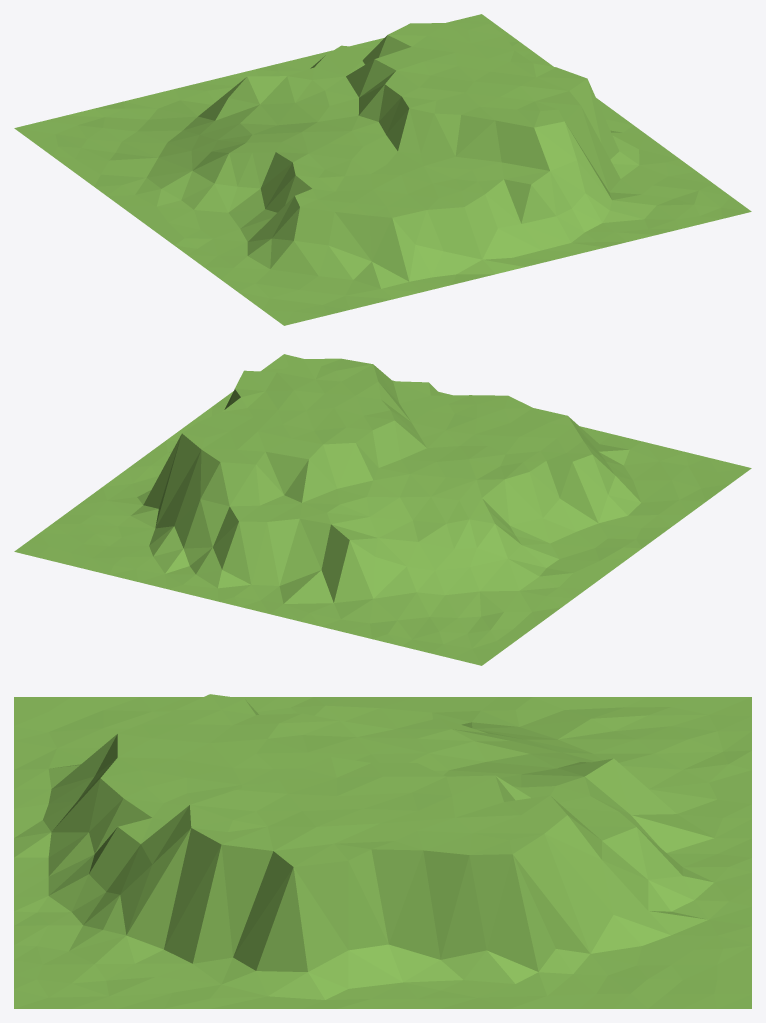
Rendered from MT_Terrain_M_d_21_LOD.fbx.
3 renders of one model, top to bottom at view 1: azimuth 30°, elevation 25°; view 2: azimuth 150°, elevation 25°; view 3: azimuth 270°, elevation 25°, orthographic. The views are drawn at different scales.
Visible parts, largest first — view 1: MT_Terrain_M_d_21_LOD0; view 2: MT_Terrain_M_d_21_LOD0; view 3: MT_Terrain_M_d_21_LOD0.
Part boxes in pixels (bbox=[...]): MT_Terrain_M_d_21_LOD0: bbox=[14, 14, 751, 325]; MT_Terrain_M_d_21_LOD0: bbox=[14, 354, 751, 665]; MT_Terrain_M_d_21_LOD0: bbox=[14, 694, 751, 1008].
Size of what is drawn, in the model's own units: 5000 by 771 by 5000.
